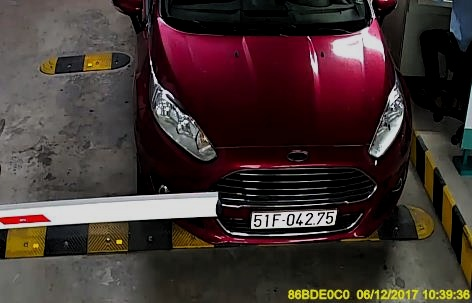plate: (249, 202, 340, 229)
